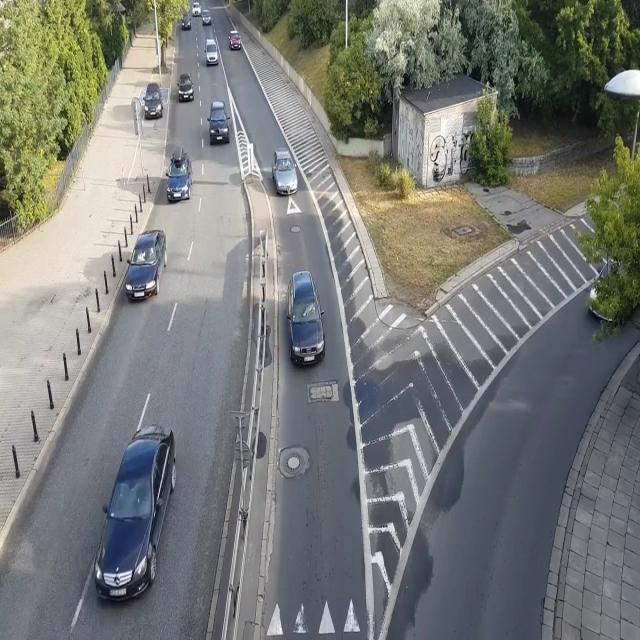car: (92, 424, 176, 601), (286, 270, 325, 368), (588, 254, 640, 324), (125, 229, 167, 302), (165, 145, 193, 203), (271, 148, 298, 194), (207, 101, 230, 145), (143, 83, 163, 119), (177, 74, 194, 102), (228, 30, 242, 50), (181, 12, 191, 30), (191, 2, 202, 17), (202, 10, 212, 26)
van: (204, 38, 219, 66)
